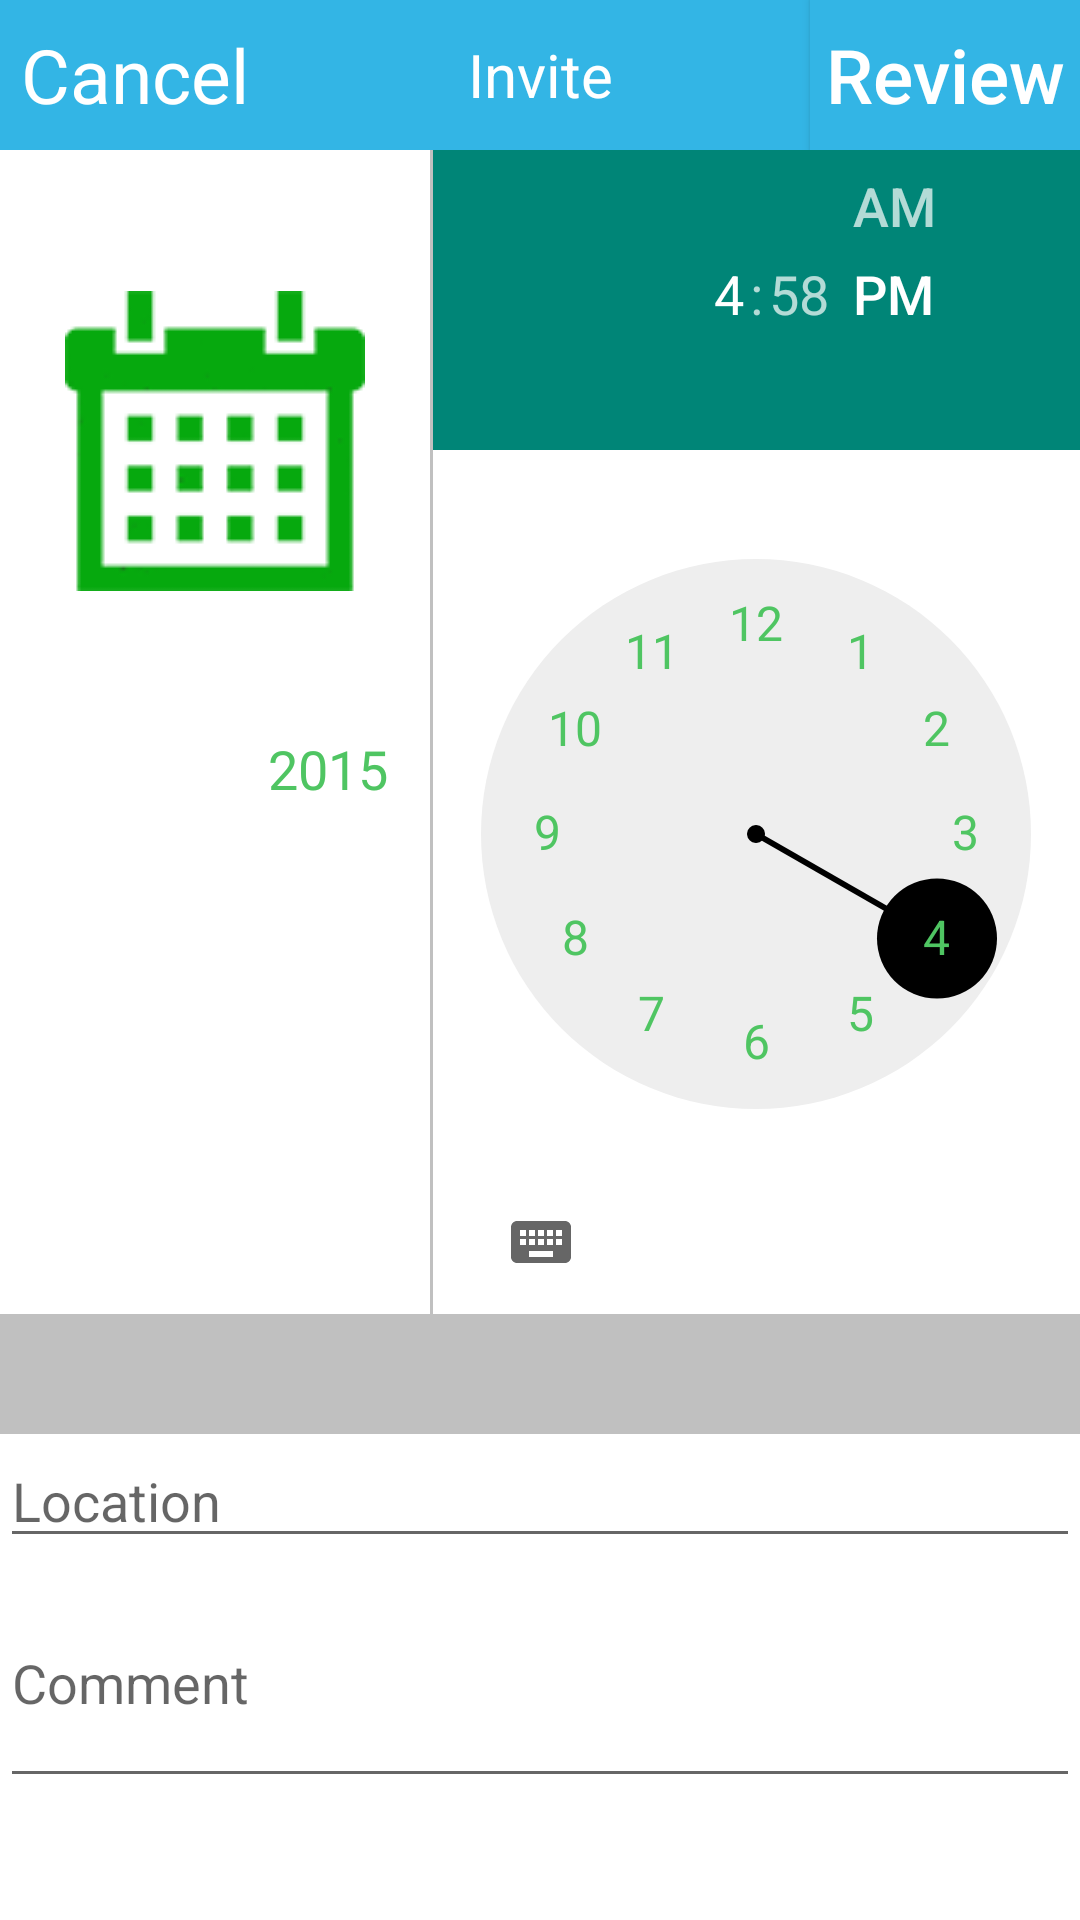

Screen size 1080×1920. Icon name, then its box in pixels as (left=x1, top=y1, right=x2, bottom=y2):
calender: (left=65, top=291, right=365, bottom=591)
